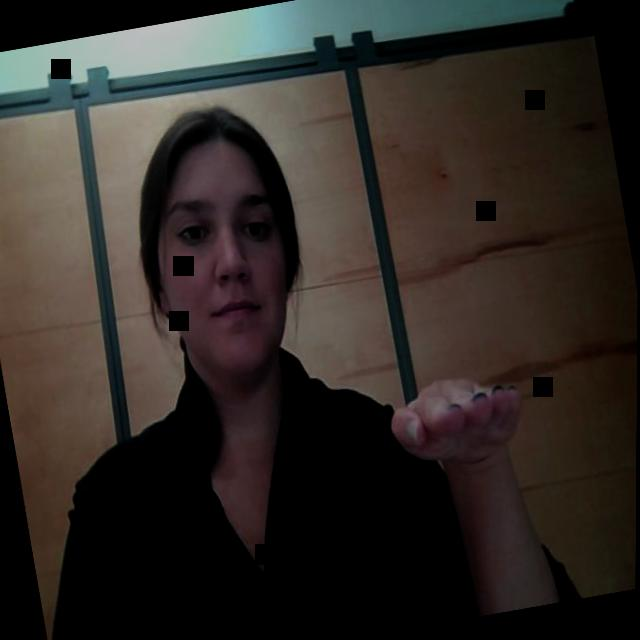Paper: (385, 350, 532, 476)
